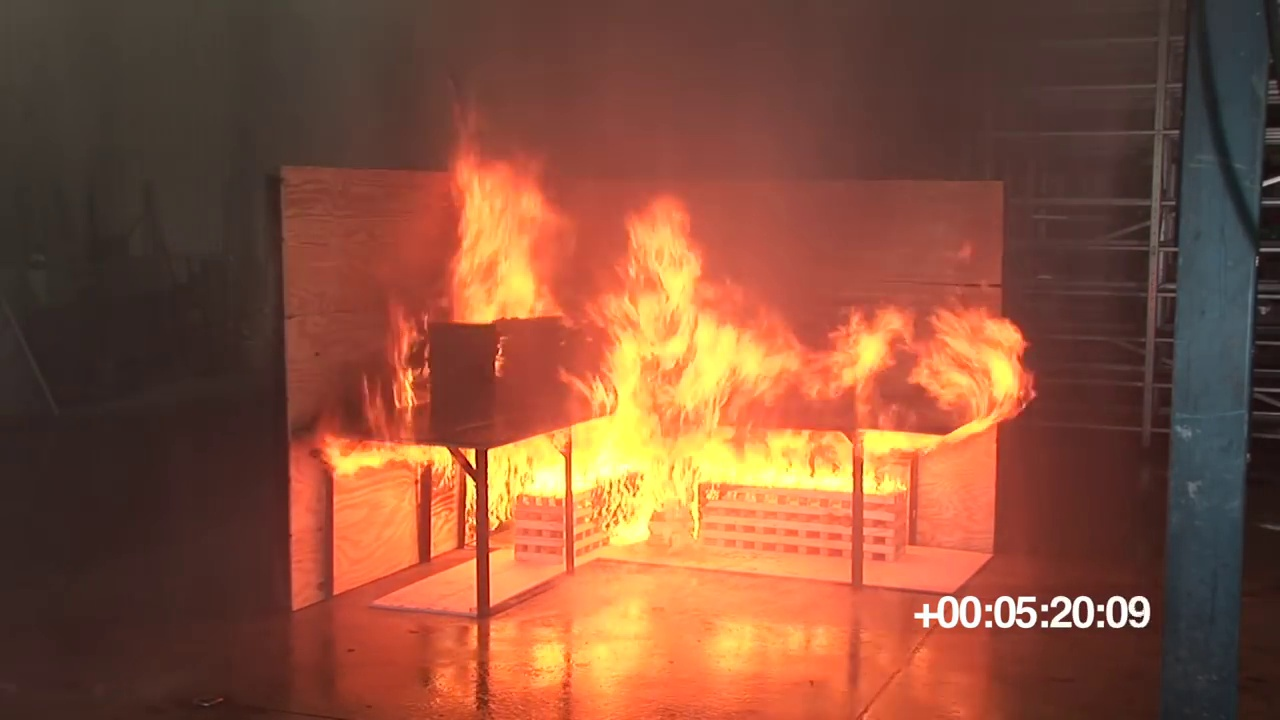fire: (571, 194, 715, 469), (569, 192, 713, 467), (510, 440, 900, 491), (712, 306, 905, 397), (451, 163, 555, 314), (915, 306, 1040, 423), (377, 313, 413, 409)
